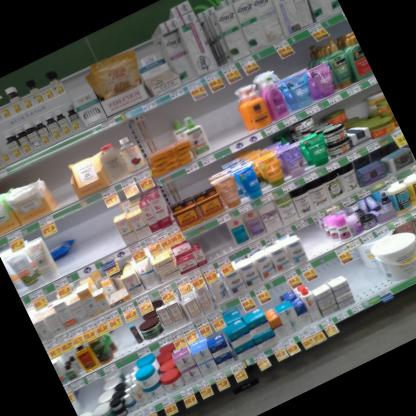empty_space: (335, 242, 389, 303), (207, 74, 256, 141), (187, 84, 234, 151), (30, 153, 79, 211), (86, 198, 128, 255), (68, 207, 108, 262), (37, 222, 76, 278), (54, 215, 91, 270), (100, 315, 139, 360), (298, 223, 327, 258), (194, 230, 222, 264), (209, 222, 237, 255), (314, 216, 340, 251)
